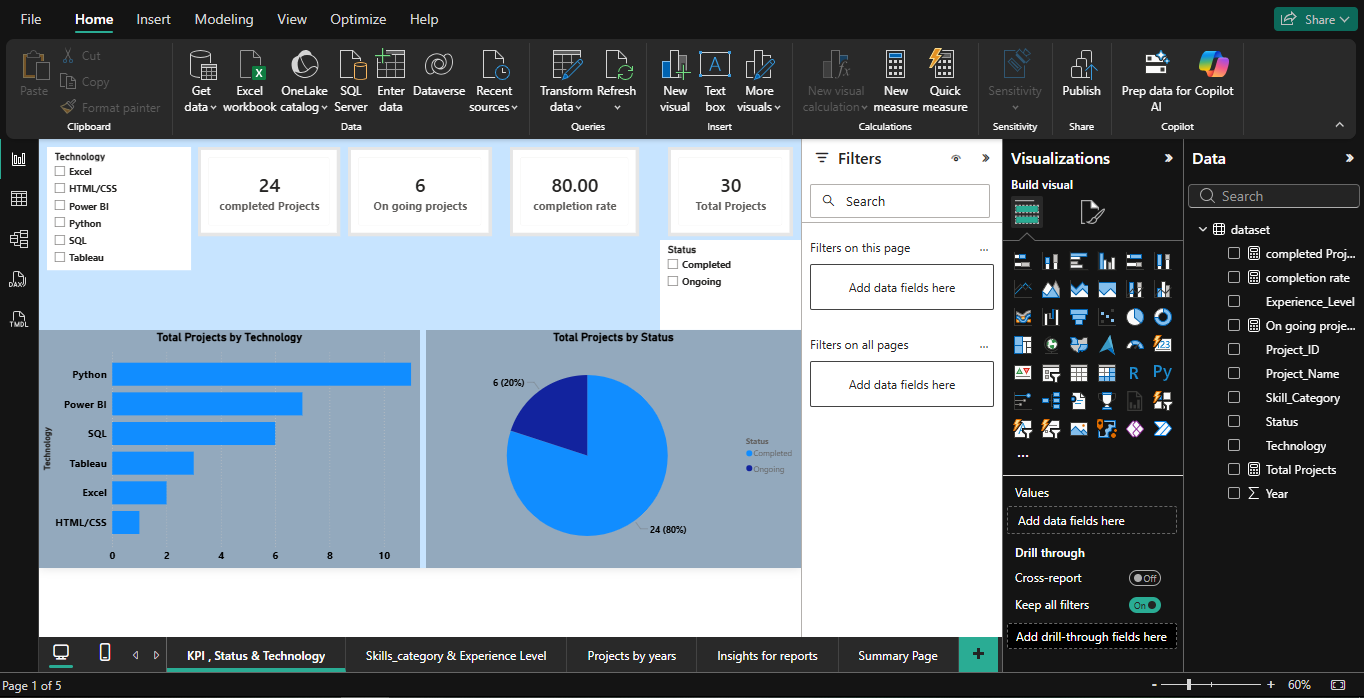

The page's visual inventory and layout, read from the dashboard file:
{"tool":"powerbi","page":{"name":"KPI , Status & Technology","canvas":[1280,720],"ordinal":0},"visuals":[{"type":"cardVisual","fields":{"Data":["dataset.Total Projects"]},"box":[1056.6,13.4,210,149.5],"z":0},{"type":"cardVisual","fields":{"Data":["dataset.completed Projects"]},"box":[267.1,13.4,238.5,149.5],"z":1000},{"type":"cardVisual","fields":{"Data":["dataset.On going projects"]},"box":[519.1,13.4,241.9,149.5],"z":2000},{"type":"cardVisual","fields":{"Data":["dataset.completion rate"]},"box":[791.2,13.4,216.7,149.5],"z":3000},{"type":"barChart","fields":{"Category":["dataset.Technology"],"Y":["dataset.Total Projects"]},"box":[0,320.8,640,399.8],"z":4000},{"type":"pieChart","fields":{"Category":["dataset.Status"],"Y":["dataset.Total Projects"]},"box":[650.1,320.8,629.9,399.8],"z":5000},{"type":"slicer","fields":{"Values":["dataset.Technology"]},"box":[13.4,13.4,241.9,206.6],"z":6000},{"type":"slicer","fields":{"Values":["dataset.Status"]},"box":[1043.1,169.7,236.9,151.2],"z":7000}]}

Visuals, with their boxes on the page's 1280x720 design canvas (x1, y1, x2, y2). These are canvas units, not pixel positions in the 1364x698 screenshot, which may show the page scaled, cropped or inside an application window:
cardVisual - dataset.Total Projects: bbox=(1057, 13, 1267, 163)
cardVisual - dataset.completed Projects: bbox=(267, 13, 506, 163)
cardVisual - dataset.On going projects: bbox=(519, 13, 761, 163)
cardVisual - dataset.completion rate: bbox=(791, 13, 1008, 163)
barChart - dataset.Technology x dataset.Total Projects: bbox=(0, 321, 640, 721)
pieChart - dataset.Status x dataset.Total Projects: bbox=(650, 321, 1280, 721)
slicer - dataset.Technology: bbox=(13, 13, 255, 220)
slicer - dataset.Status: bbox=(1043, 170, 1280, 321)
